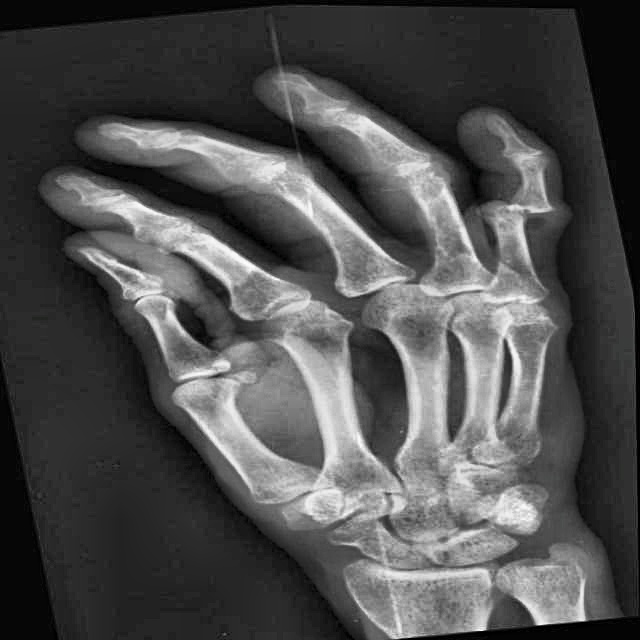Transverse: (479, 173, 585, 232)
